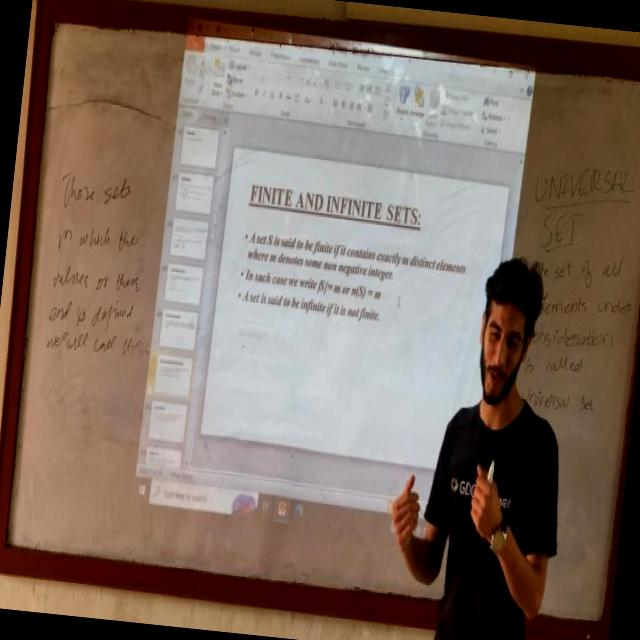Instructor: (413, 234, 588, 640)
Slide: (129, 12, 534, 568)
White-board: (0, 4, 640, 639)
